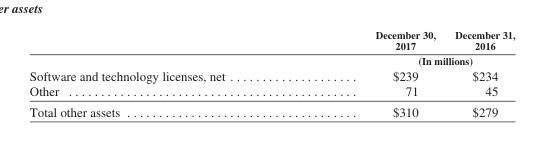table: (28, 28, 514, 118)
table column: (28, 28, 299, 118), (299, 28, 444, 118), (444, 28, 514, 118)
table column header: (28, 28, 514, 67)
table row: (28, 28, 514, 52), (28, 82, 514, 101), (28, 101, 514, 118), (28, 52, 514, 67), (28, 67, 514, 82)
table spanning cell: (299, 52, 514, 67)
